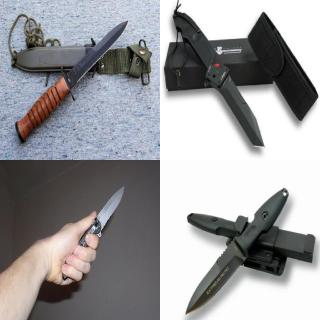knife: (184, 236, 246, 318), (66, 182, 126, 266), (64, 17, 129, 89), (216, 70, 266, 151)
